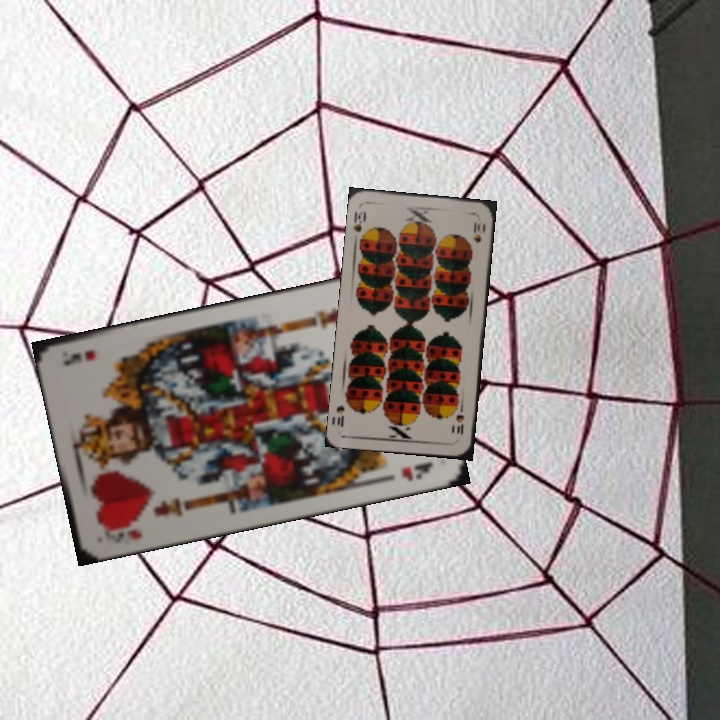HK: (100, 518, 144, 546)
S10: (452, 402, 467, 438), (349, 207, 368, 235)
